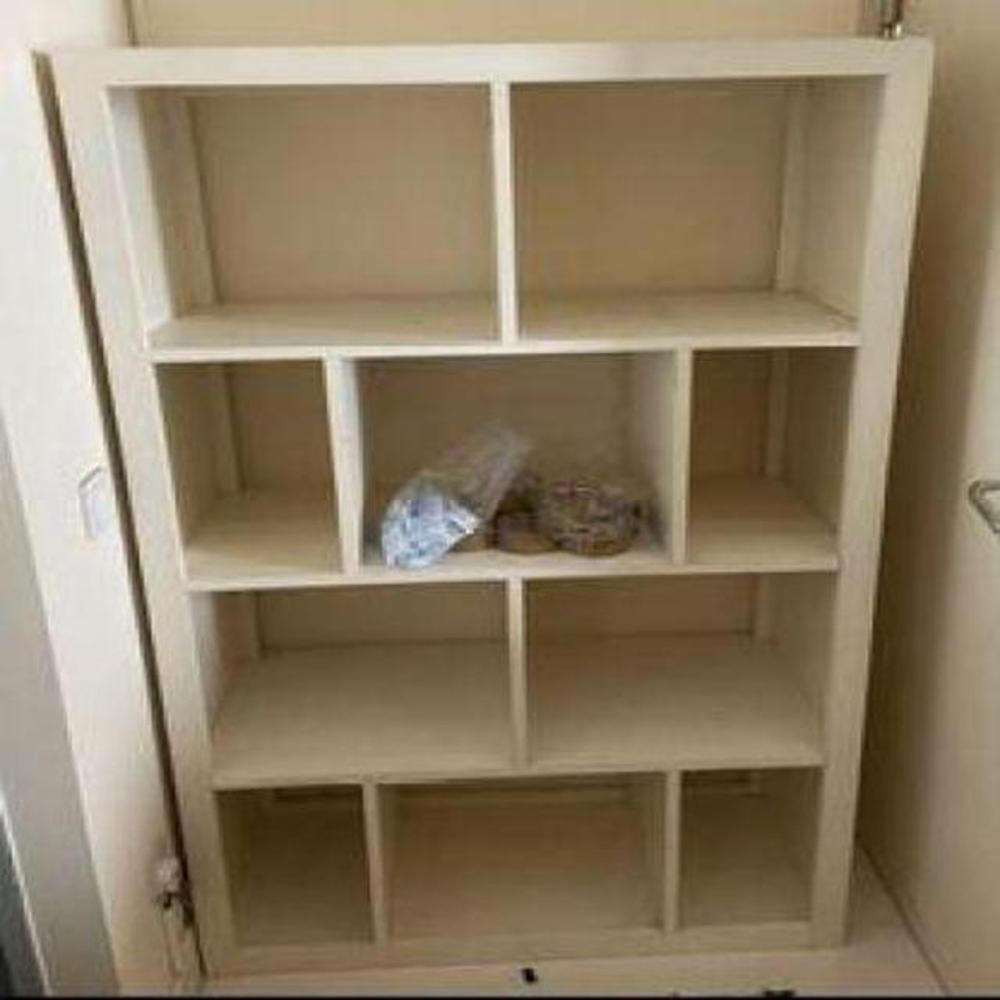lamp: (45, 32, 936, 980)
